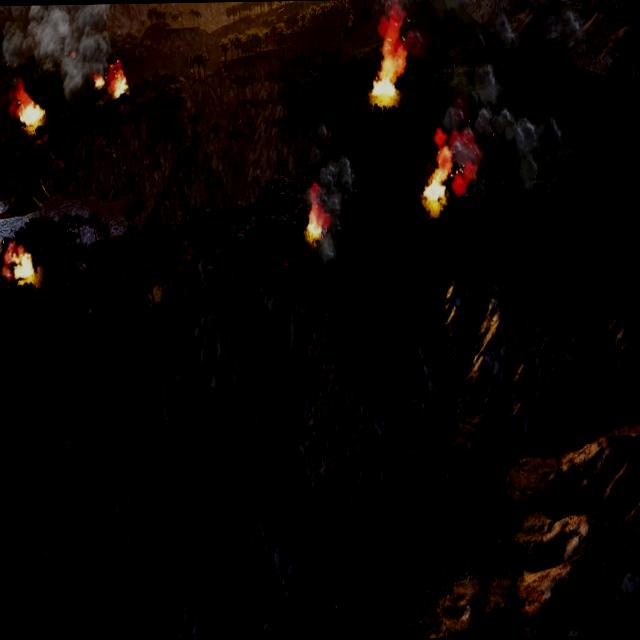fire: (420, 130, 471, 213), (370, 14, 410, 108), (8, 79, 44, 129), (371, 71, 401, 108), (306, 206, 330, 242), (12, 248, 34, 284), (110, 65, 131, 97), (94, 74, 104, 90)
smoke: (429, 36, 564, 206), (0, 3, 118, 98), (368, 0, 477, 63), (310, 148, 358, 272), (0, 228, 16, 285)
